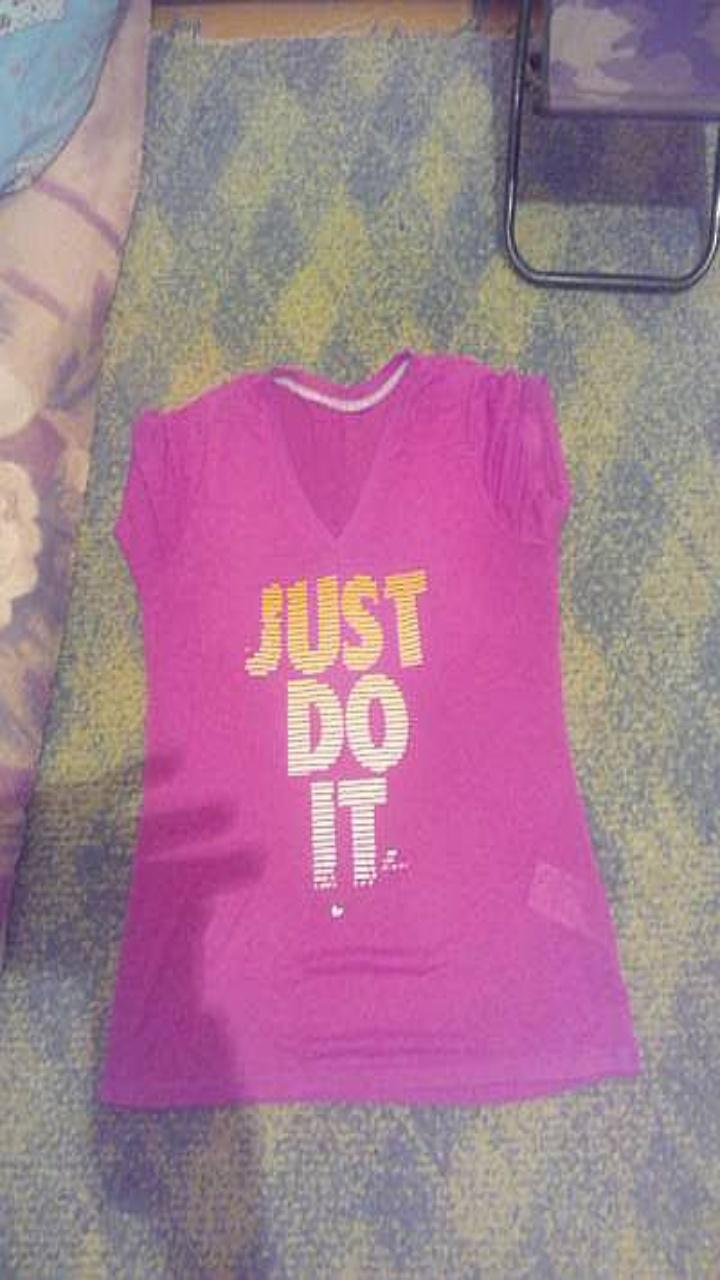T-Shirt: (101, 351, 638, 1106)
